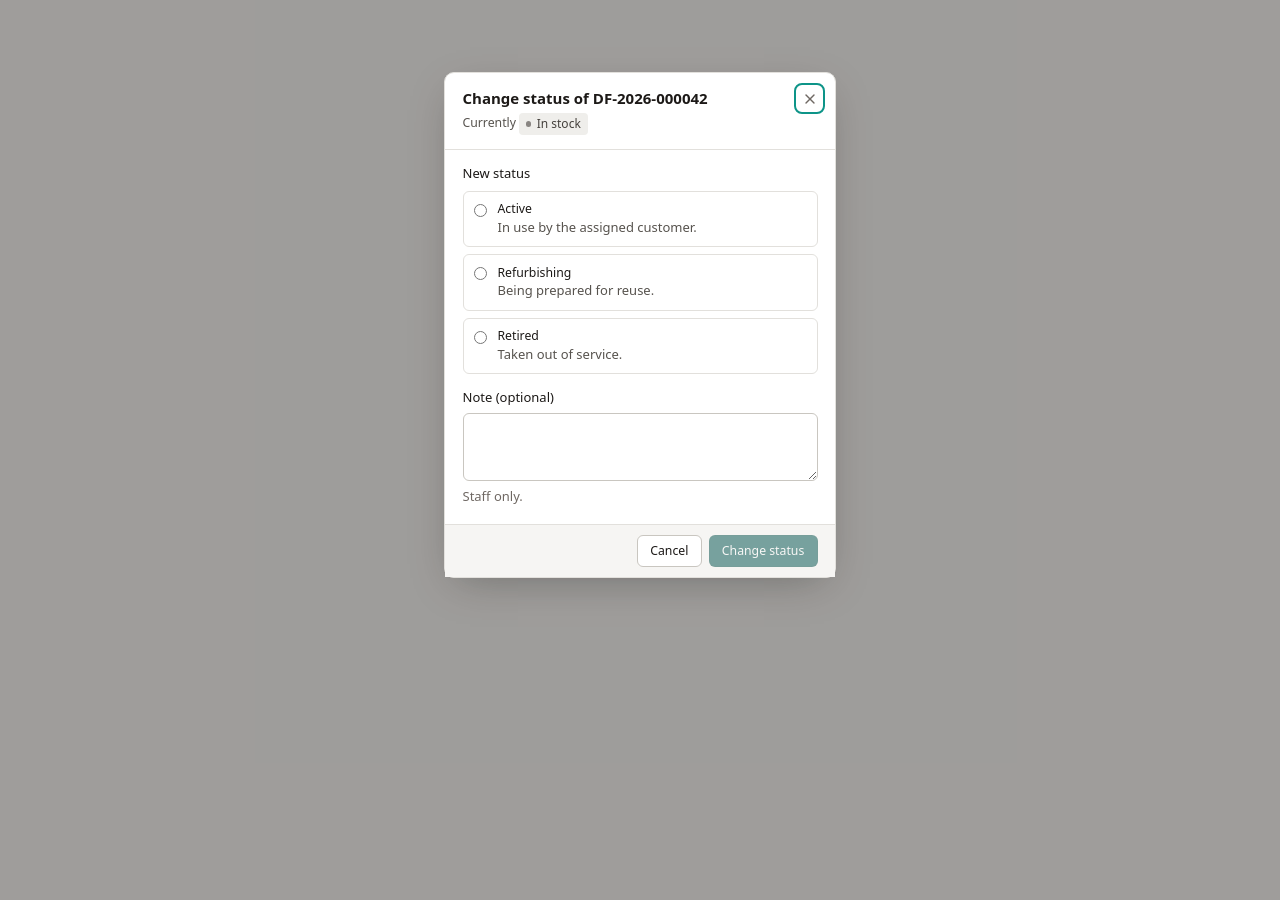
Test case: AssetStatusDialog › blocks making an unassigned asset active
The width and height of the screenshot is (1280, 900).
Click the radio button labelled "Active In use by the assigned customer." at (480, 210), box x1=474 y1=204 x2=487 y2=217
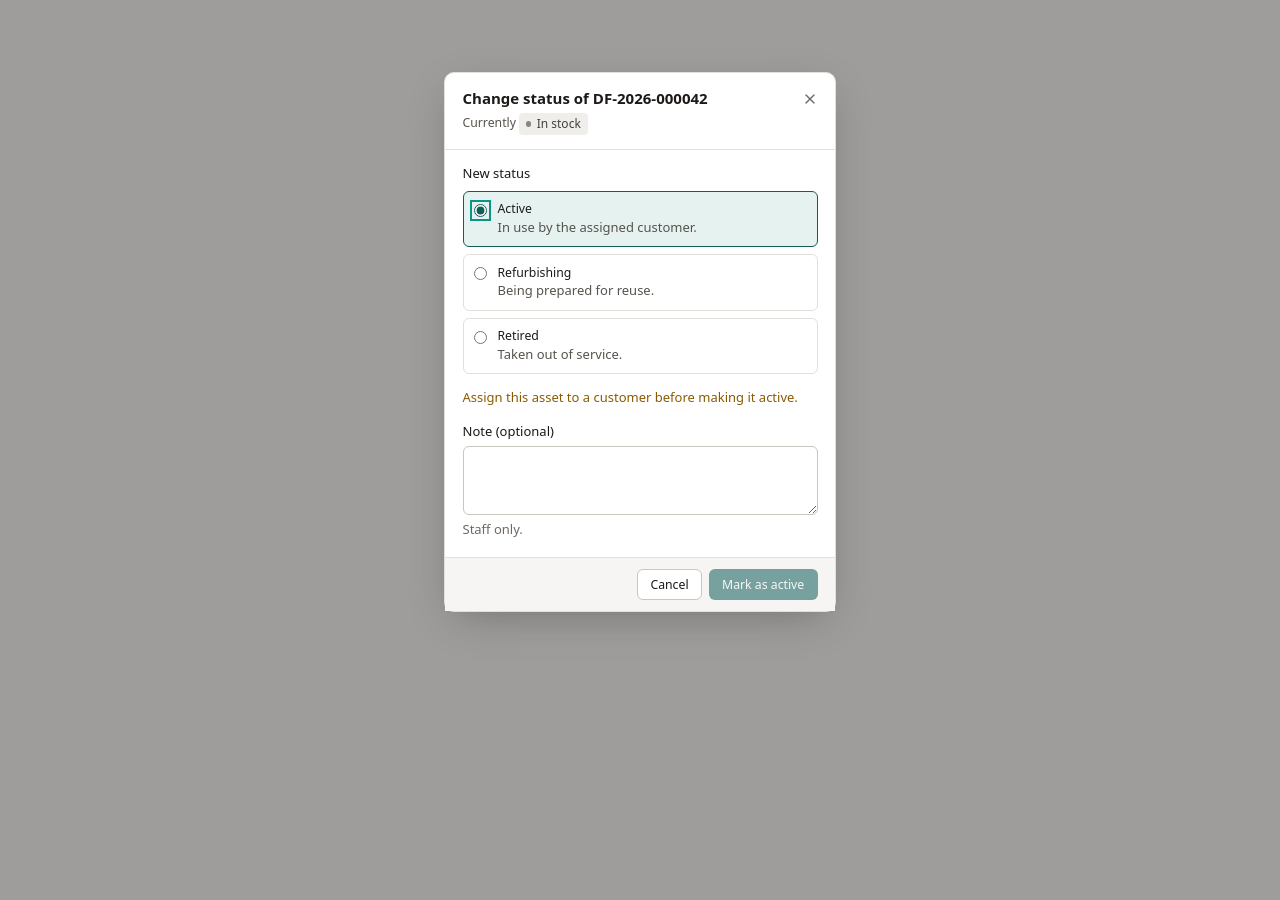
Expected: the button "Mark as active" is disabled, x1=709 y1=568 x2=818 y2=600
Expected: the message shows "Assign this asset to a customer", x1=462 y1=388 x2=798 y2=406
